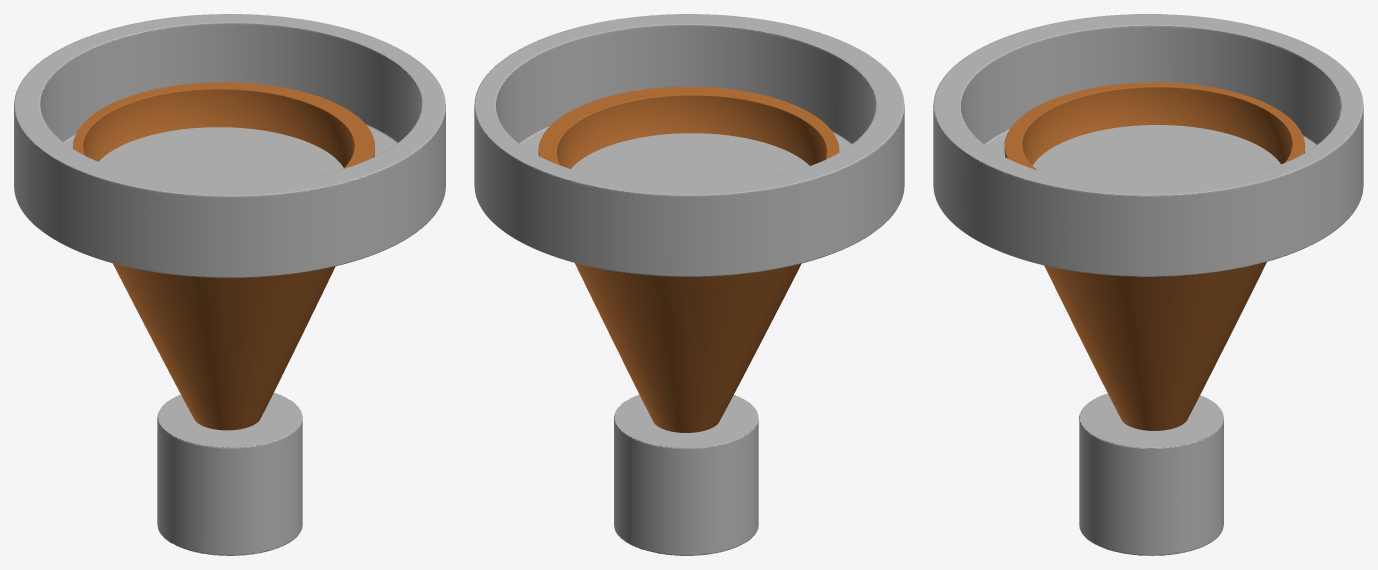
Rendered from trichter.glb.
3 renders of one model, left to right at view 1: azimuth 30°, elevation 25°; view 2: azimuth 150°, elevation 25°; view 3: azimuth 270°, elevation 25°, orthographic.
Visible parts, largest first — view 1: trichter, 272984_23_05_11_15_10_24_1; view 2: trichter, 272984_23_05_11_15_10_24_1; view 3: trichter, 272984_23_05_11_15_10_24_1.
Boxes of the visible parts, x1,y1,x2,y2 form: trichter: (14, 14, 445, 555); 272984_23_05_11_15_10_24_1: (73, 82, 374, 430); trichter: (474, 14, 904, 555); 272984_23_05_11_15_10_24_1: (538, 86, 839, 432); trichter: (933, 14, 1363, 555); 272984_23_05_11_15_10_24_1: (1004, 82, 1305, 430).
Bounding box in the file's own units: 8.93 × 9.64 × 8.93.
Materials: 2 (1 with a texture image).
